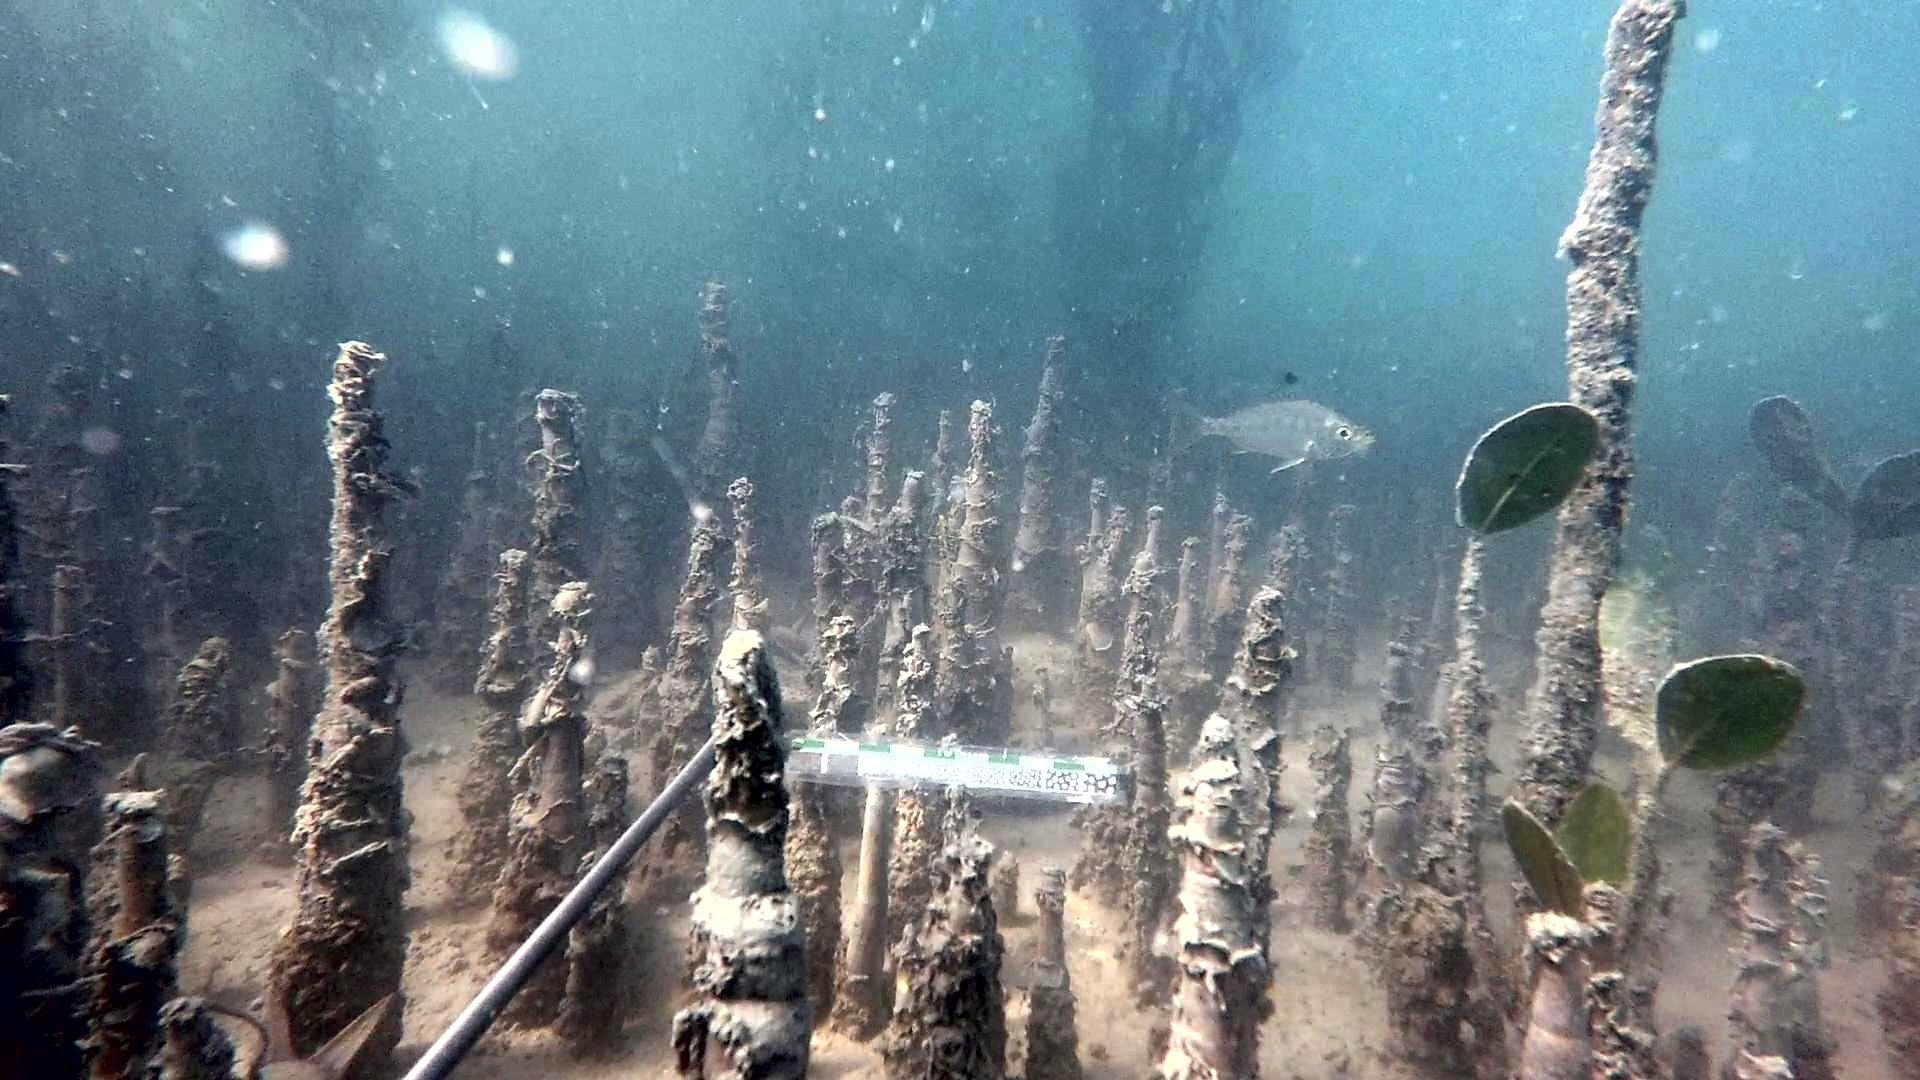gerres: (1159, 369, 1378, 475)
